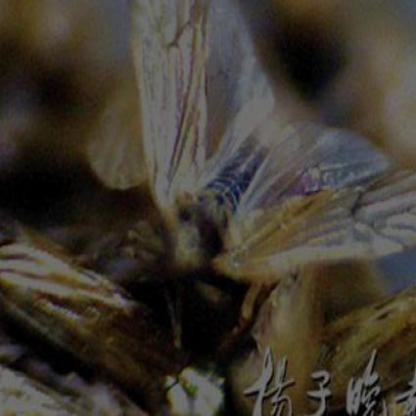brown-planthopper: (126, 0, 416, 297)
